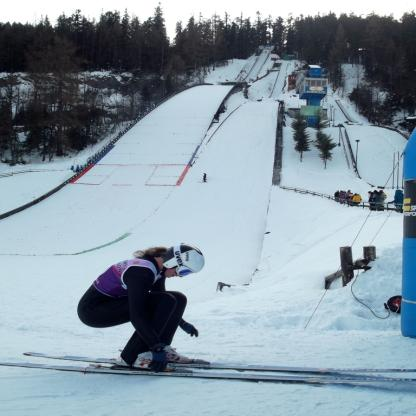Helmet: (159, 243, 208, 277)
